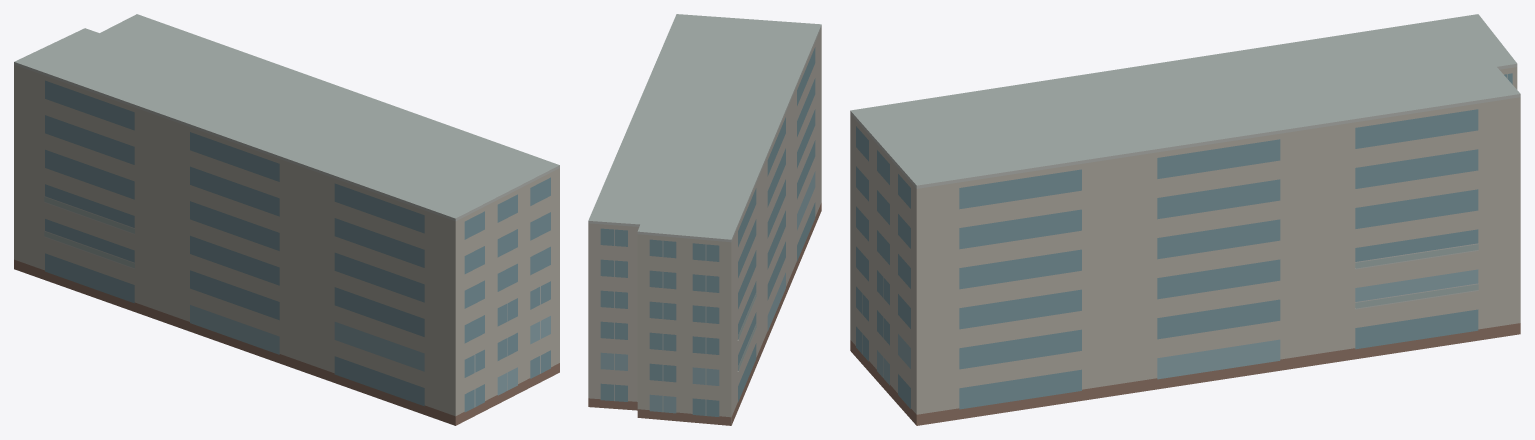
The model's file is survey-upis-32703778.glb.
3 views of the same model, side by side, from view 1: azimuth 30°, elevation 25°; view 2: azimuth 150°, elevation 25°; view 3: azimuth 270°, elevation 25° (orthographic). The views are drawn at different scales.
Parts seen in each view (by area): view 1: survey-upis-32703778.tmp; view 2: survey-upis-32703778.tmp; view 3: survey-upis-32703778.tmp.
Boxes of the visible parts, <box> form: survey-upis-32703778.tmp: <box>14,14,559,425</box>; survey-upis-32703778.tmp: <box>588,14,821,425</box>; survey-upis-32703778.tmp: <box>850,14,1520,425</box>.
Bounding box in the file's own units: 27.27 × 17.8 × 45.02.
